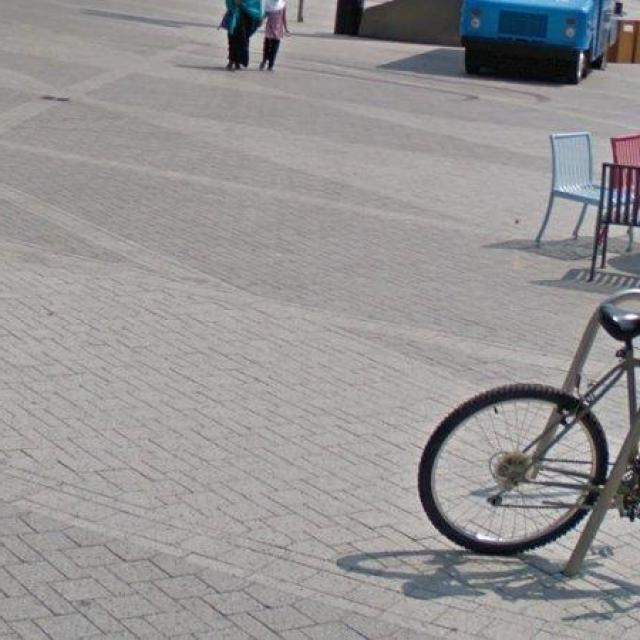bicycle: (382, 289, 640, 572)
